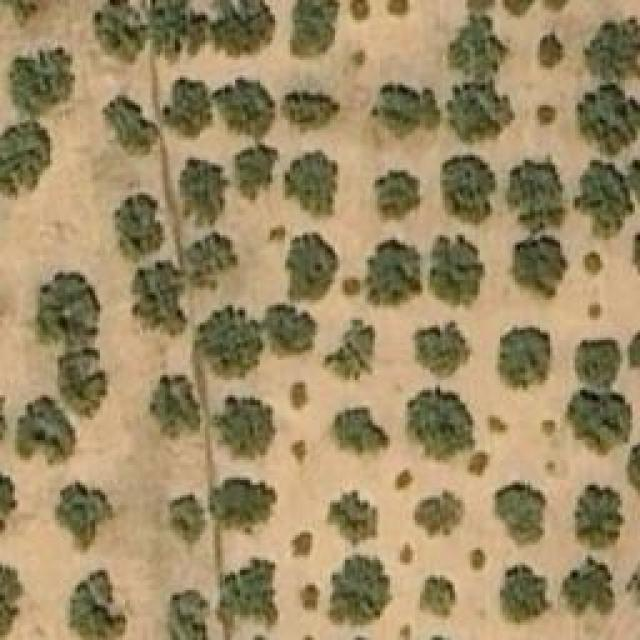Tree: (33, 268, 98, 353), (195, 303, 263, 378), (407, 390, 475, 460), (570, 163, 630, 238), (565, 390, 633, 455), (575, 82, 638, 150), (493, 480, 548, 555), (283, 230, 338, 305), (447, 80, 515, 140), (370, 82, 440, 140), (67, 570, 125, 640), (430, 233, 485, 306), (133, 263, 188, 336), (330, 557, 388, 625), (218, 558, 278, 623), (215, 395, 275, 458), (497, 563, 555, 628), (283, 150, 338, 218), (440, 155, 495, 223), (58, 480, 113, 548), (448, 15, 511, 73), (368, 238, 423, 303), (115, 193, 165, 263), (205, 0, 272, 52), (102, 95, 160, 155), (12, 403, 70, 463), (150, 373, 203, 438), (180, 157, 230, 225), (210, 480, 273, 533), (13, 55, 66, 118), (510, 160, 558, 228), (575, 485, 625, 550), (163, 75, 213, 140), (215, 78, 275, 131), (500, 325, 550, 388), (415, 323, 470, 378), (290, 0, 340, 60), (563, 557, 613, 615), (95, 0, 145, 58), (413, 488, 466, 541), (510, 240, 558, 298), (144, 0, 197, 52), (0, 125, 42, 190), (55, 353, 100, 413), (373, 170, 423, 223), (587, 20, 635, 75), (185, 232, 238, 280), (265, 303, 315, 353), (282, 90, 340, 133), (235, 145, 280, 200), (335, 408, 388, 453), (335, 323, 378, 378), (575, 335, 620, 385), (330, 498, 375, 543), (168, 590, 208, 640), (170, 493, 205, 546), (0, 562, 22, 637), (420, 575, 455, 620), (0, 465, 18, 540), (535, 35, 560, 70), (290, 530, 313, 560), (500, 0, 538, 18), (485, 413, 510, 436), (468, 545, 488, 573), (350, 0, 370, 25), (300, 585, 323, 605), (533, 105, 556, 123), (393, 470, 413, 490), (468, 453, 488, 473), (585, 303, 605, 323), (293, 383, 308, 408), (580, 255, 600, 273), (542, 417, 560, 435), (343, 277, 358, 295)
